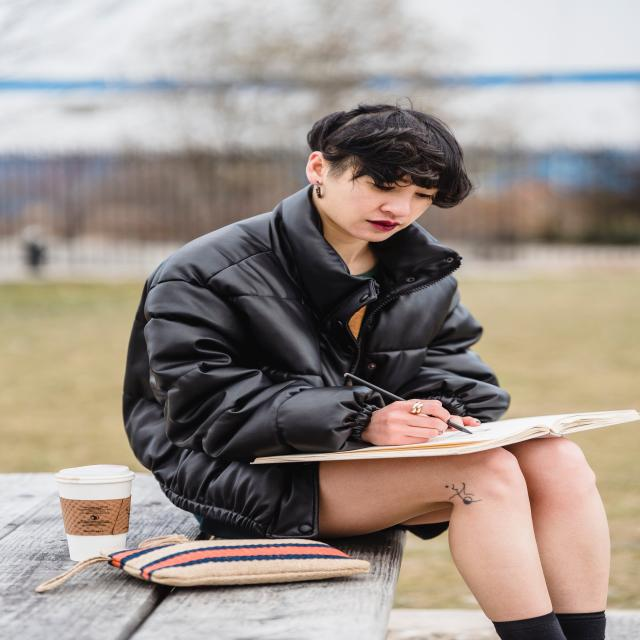cup: (51, 463, 136, 561)
